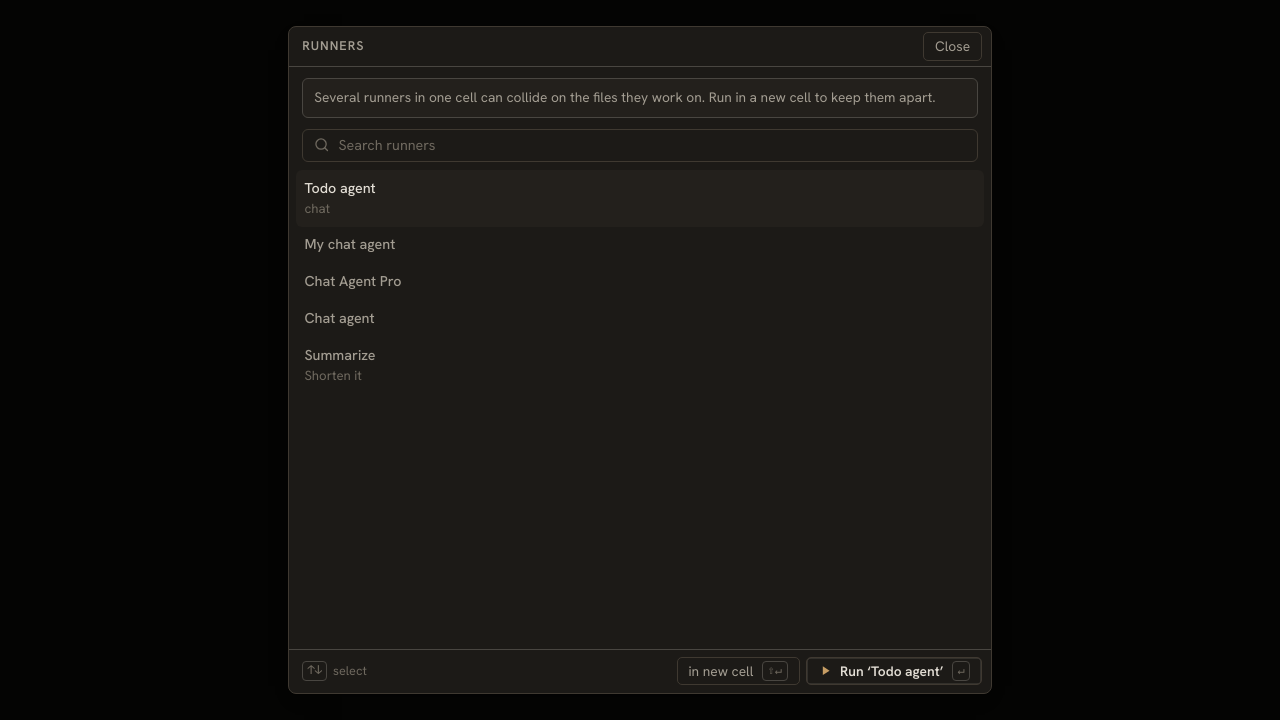
it: Runners panel › ranks an exact name, then a name prefix, then a name holding the words, then the rest (P02)
This screenshot has width=1280, height=720.
Step 1. Type "  chat AGENT " into the dropdown labelled "Search runners" → {"x": 652, "y": 145}, box [338,130,966,160]
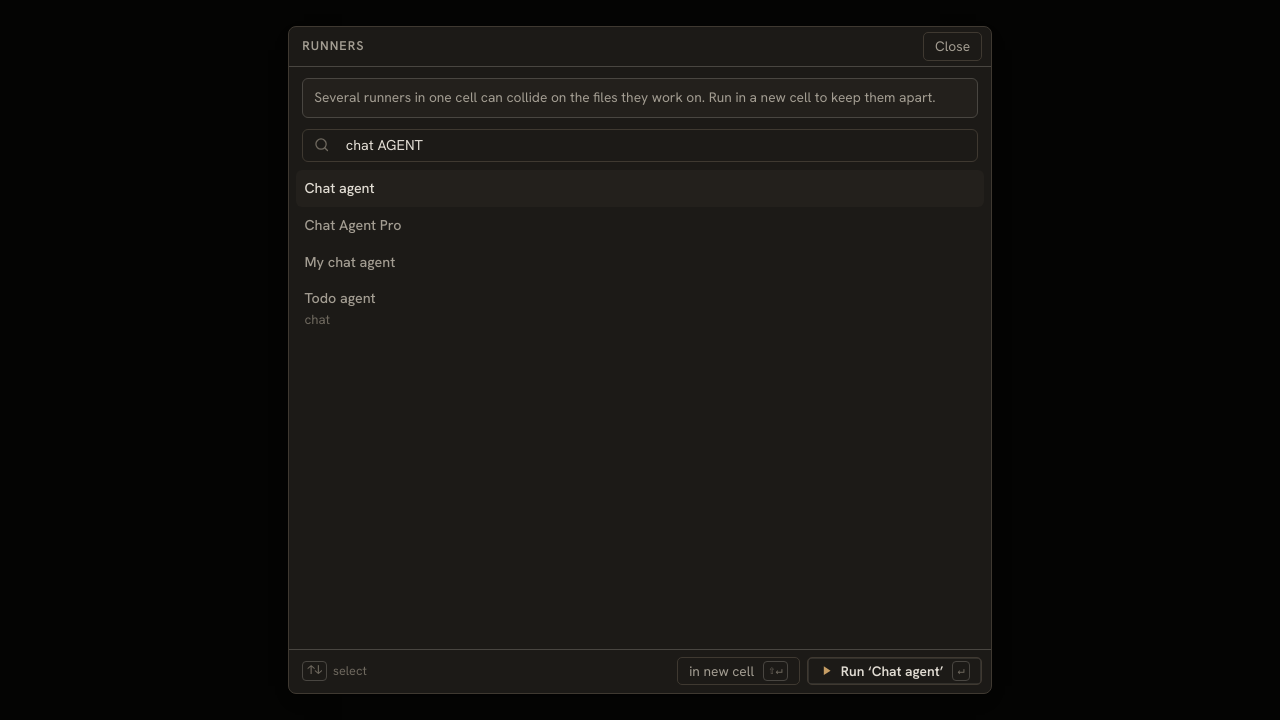
Step 2. Replace the text in the dropdown named "Search runners" with "nothing" → {"x": 652, "y": 145}, box [338,130,966,160]
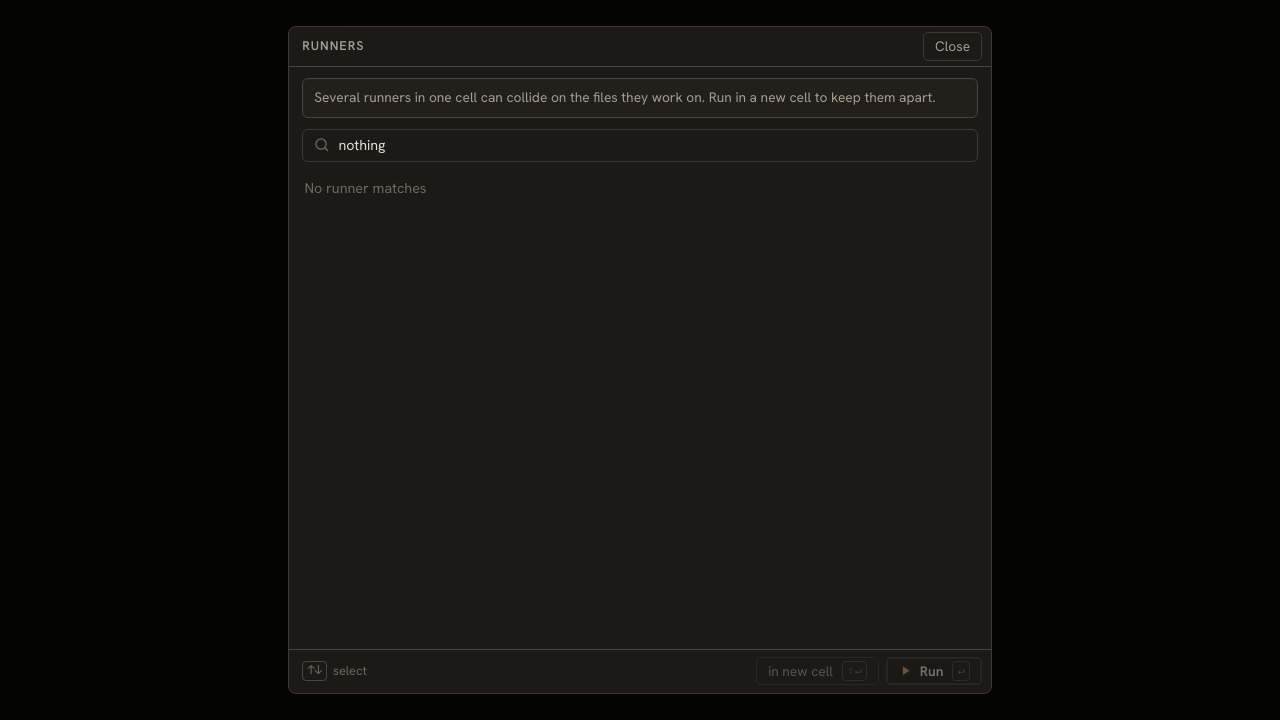
Expected: the text "No runner matches" is shown, [304,179,427,197]
Expected: the button with test id "cell-panel-primary" is disabled, [886,657,982,685]
